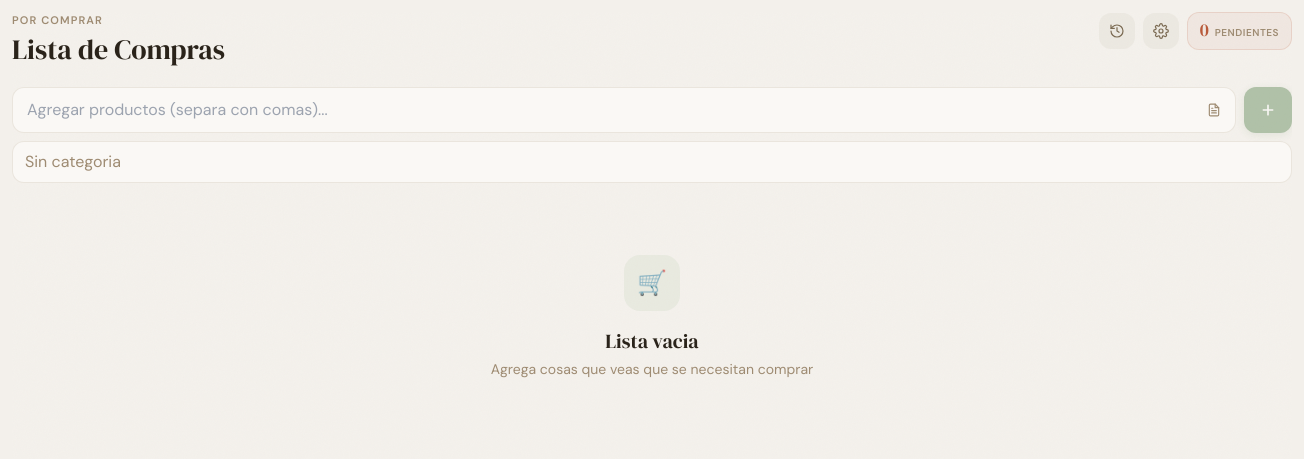
ShoppingList — agregar múltiples productos por coma › muestra el preview con la cantidad de productos
This screenshot has width=1304, height=459.
Type "lechuga, tomate" into the field with placeholder "Agregar productos (separa con comas)..." at [624, 110], box [12,86,1236,132]
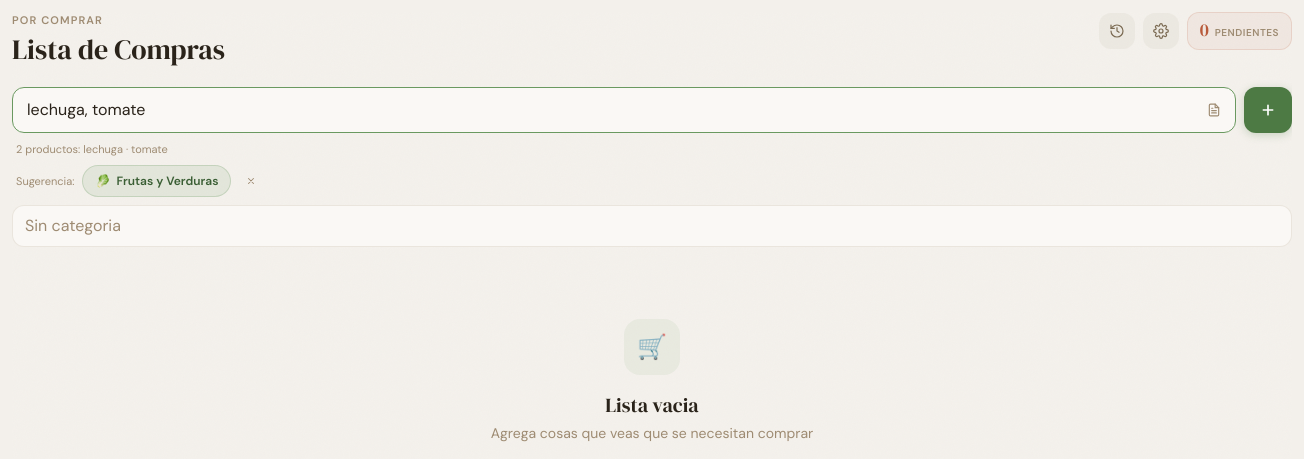
Expected: the text "2 productos: lechuga · tomate" is shown, [16,142,168,156]
